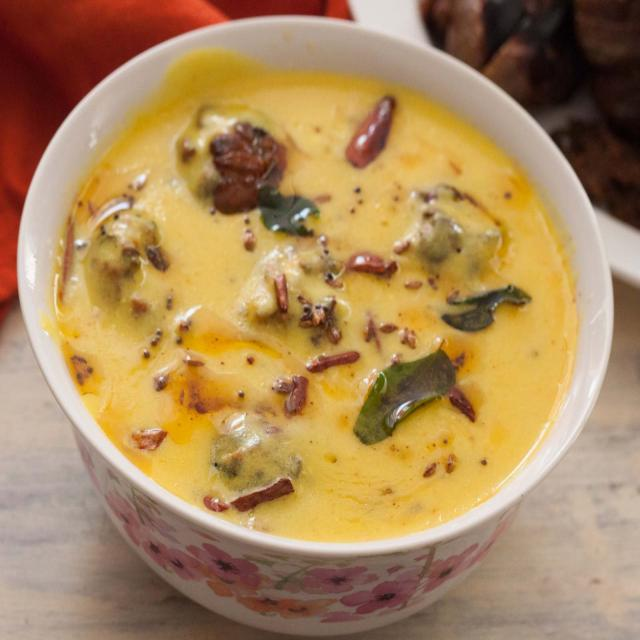Kadhi Pakora: (54, 65, 578, 551)
